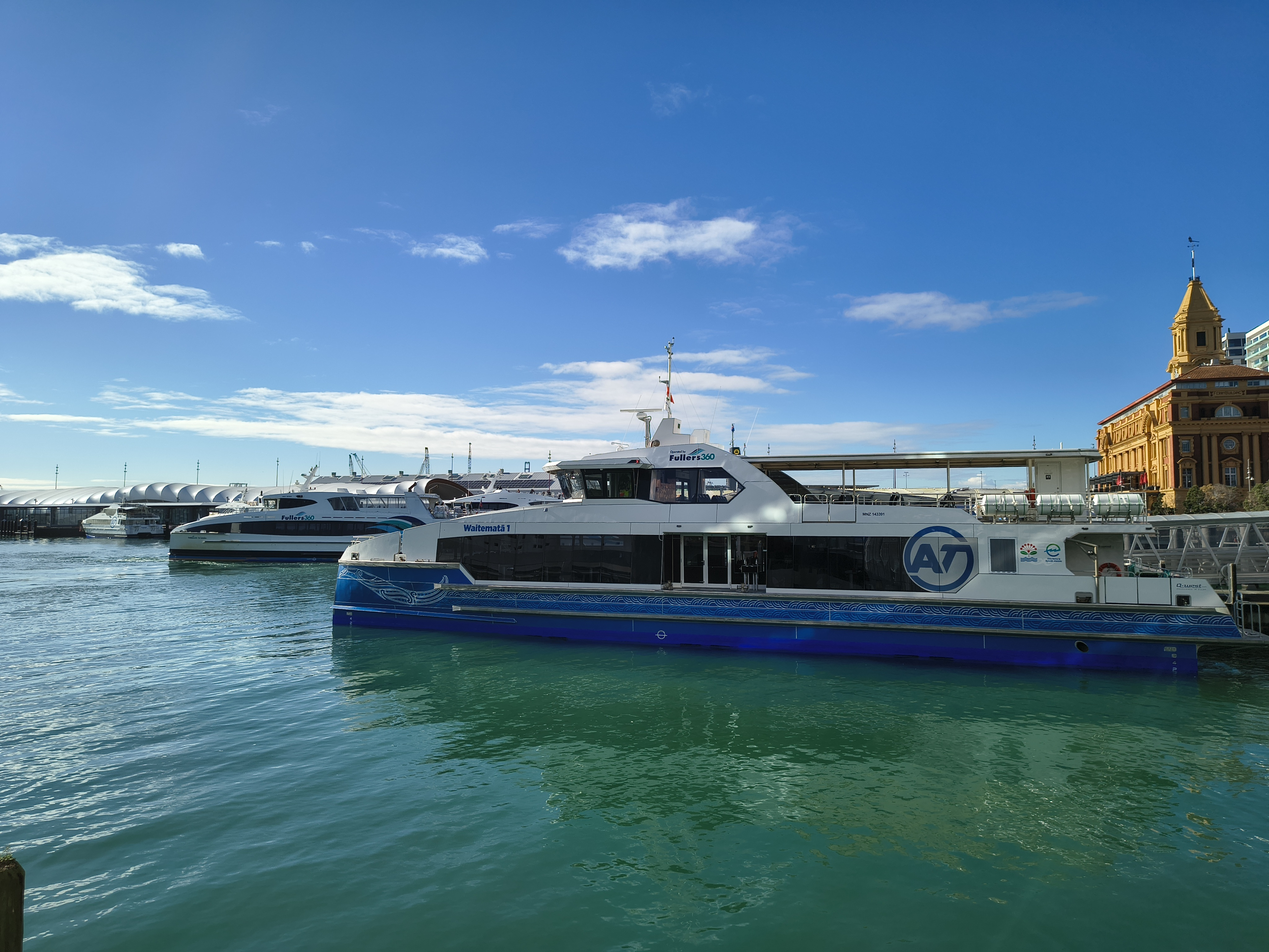ferry: (334, 416, 1248, 678), (172, 477, 464, 563), (81, 502, 169, 536)
